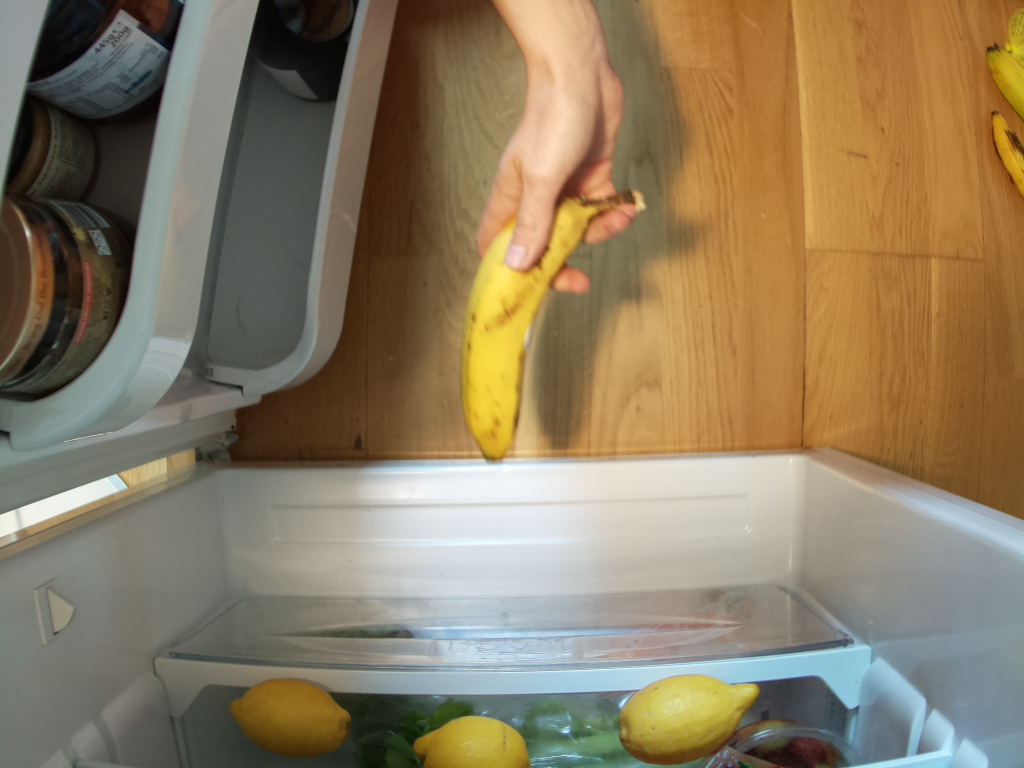banana: (459, 187, 633, 463)
